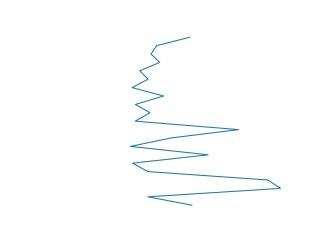crevasseRiverBedLagDeposit: (126, 34, 286, 209)
